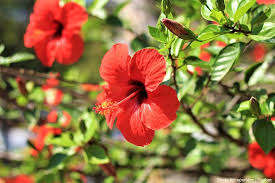hybiscus: (97, 43, 181, 144)
